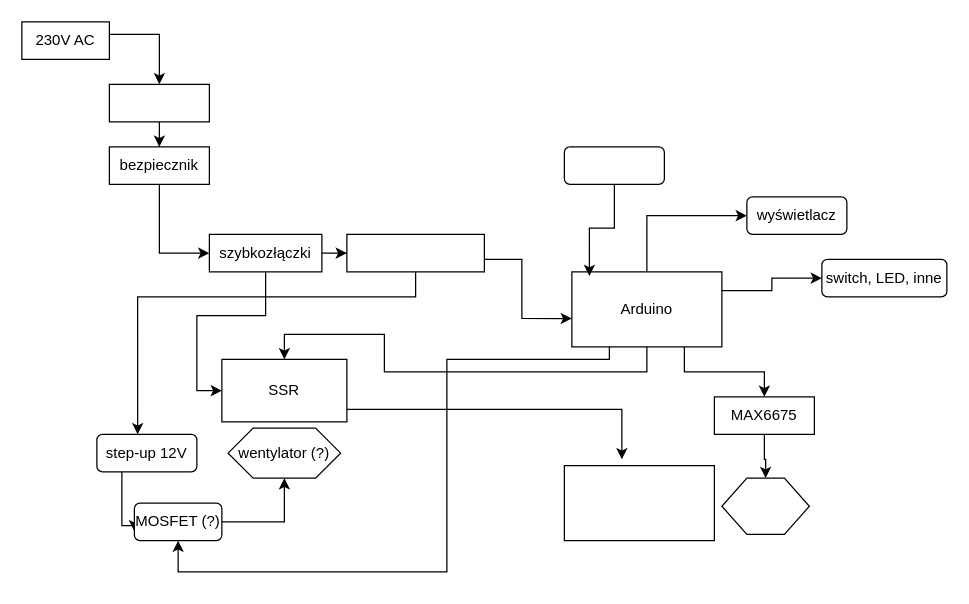
Image size: 969x604. Some labels were removed from this diagram. The centre of each missing label's shape, as x and y in pixels:
"230V AC -> 5V DC" goes at point 415,252.
"Grzałka" goes at point 638,502.
"main switch" goes at point 158,102.
"potencjometr" goes at point 613,165.
"termopara" goes at point 765,505.
